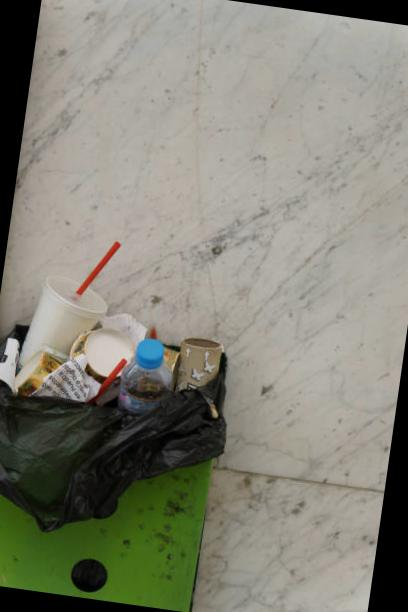trash: (0, 246, 264, 442), (16, 218, 121, 372), (154, 319, 234, 395), (116, 333, 170, 428), (95, 304, 140, 385)
trash_can_overflow: (0, 216, 282, 612)
